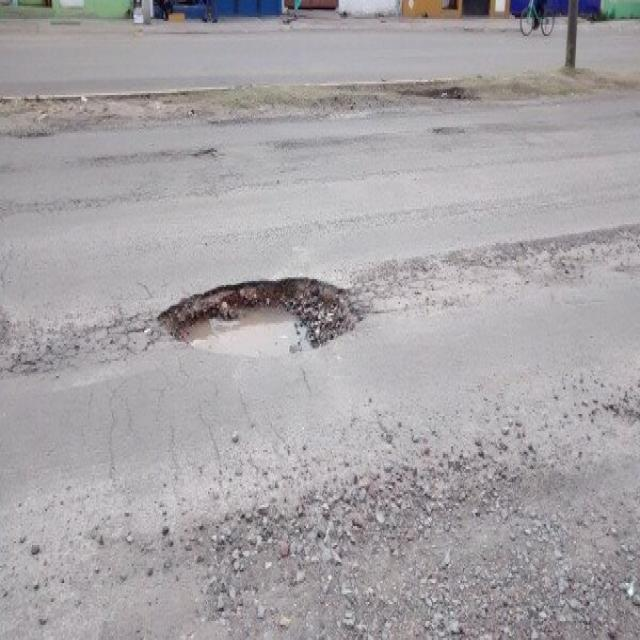Pothole: (98, 211, 401, 401)
